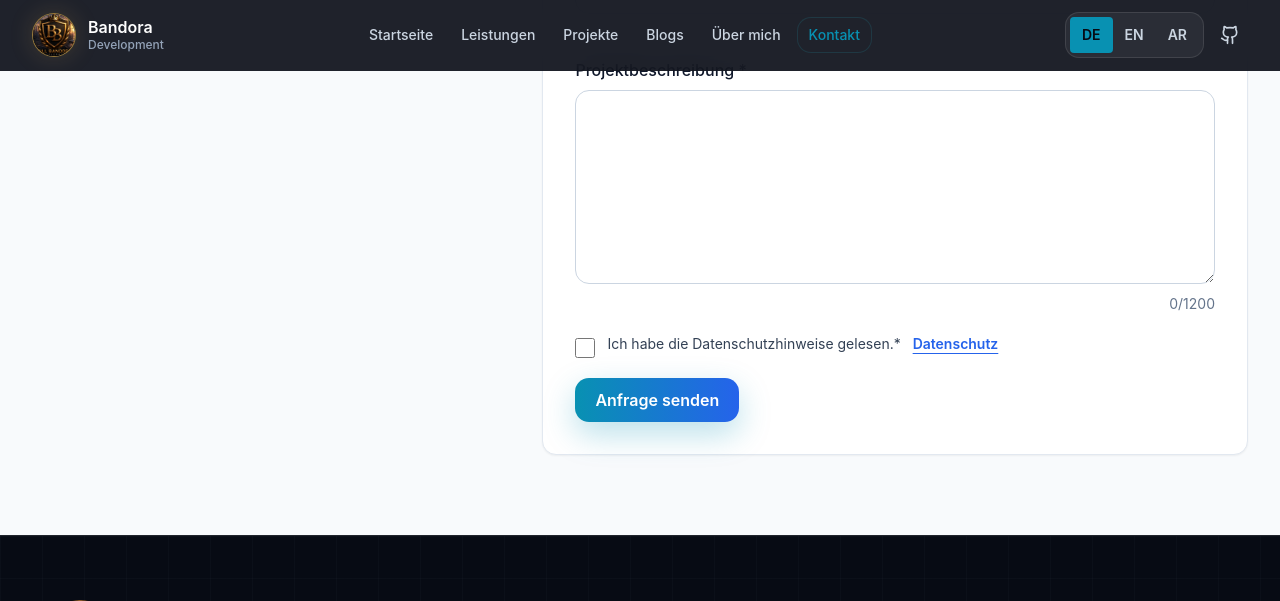
portfolio app › validates the contact form
(page scrolled)
What coordinates should you click on to do the following:
click the button "Anfrage senden"
I would click on:
 (657, 400)
Its box is [575,378,739,422].
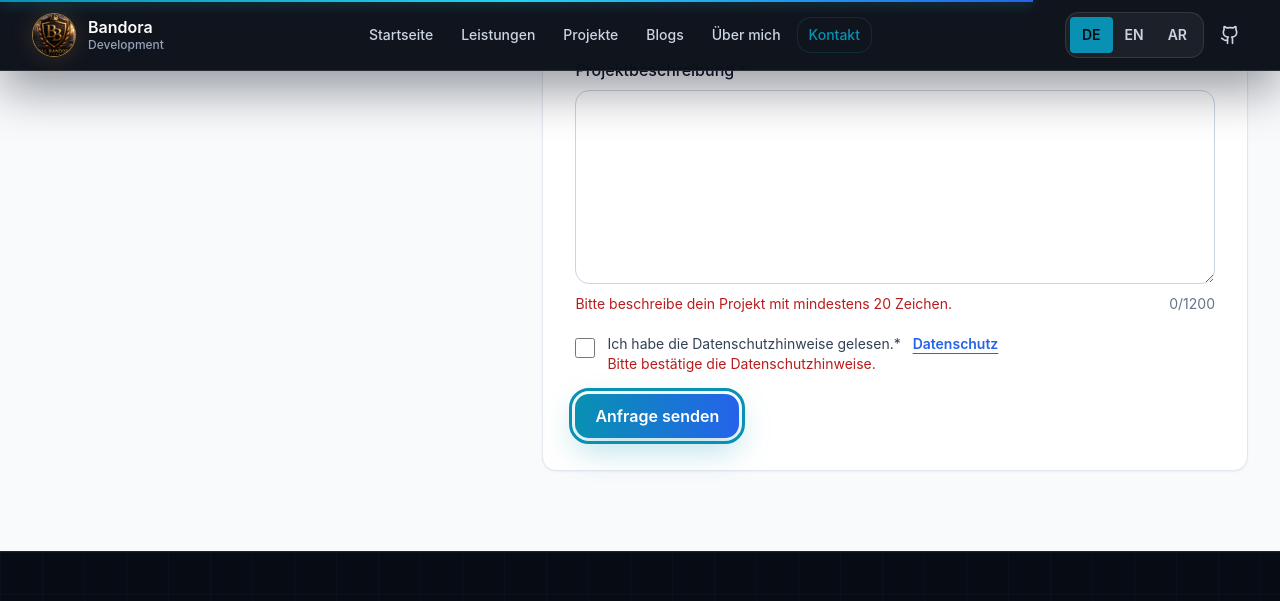
Now the text "Bitte beschreibe dein Projekt mit mindestens 20 Zeichen." is shown, box [575,294,952,314]
